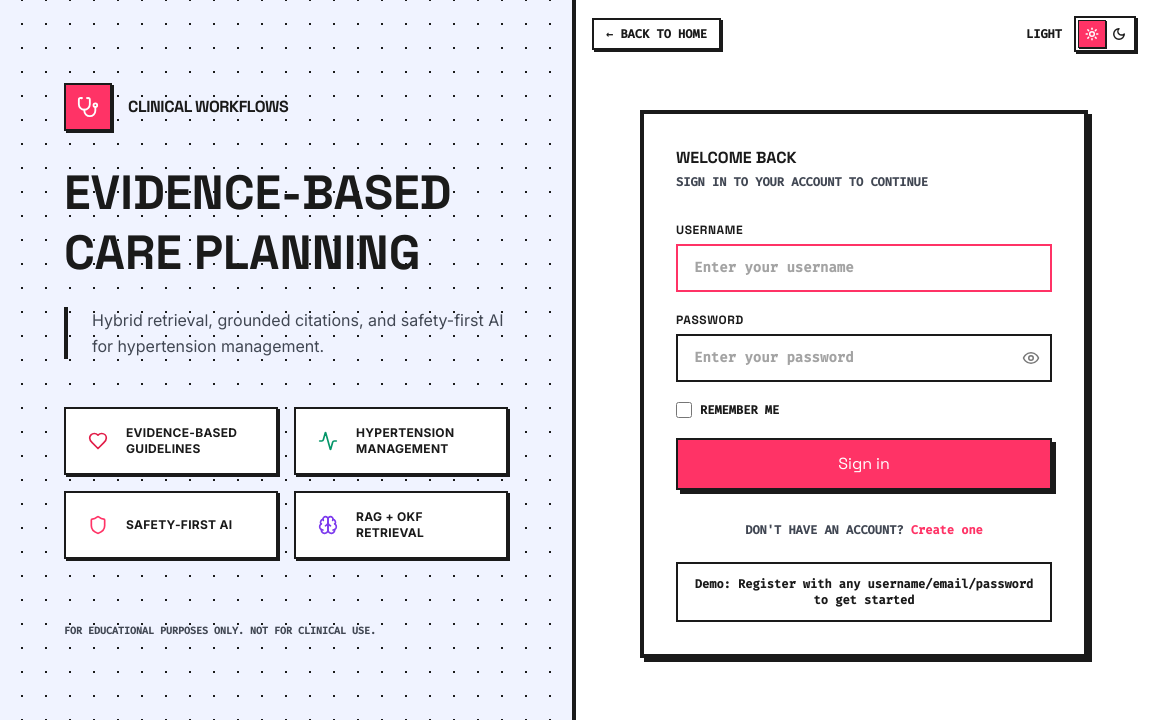
it: LoginPage — fake-token regression › does not synthesize a fake JWT when /api/auth/token returns 500
// Fill in clearly-fictional fixture values and submit.
Type "test_user_fixture" into the field labelled "Username" at (864, 268), box [676,244,1052,292]
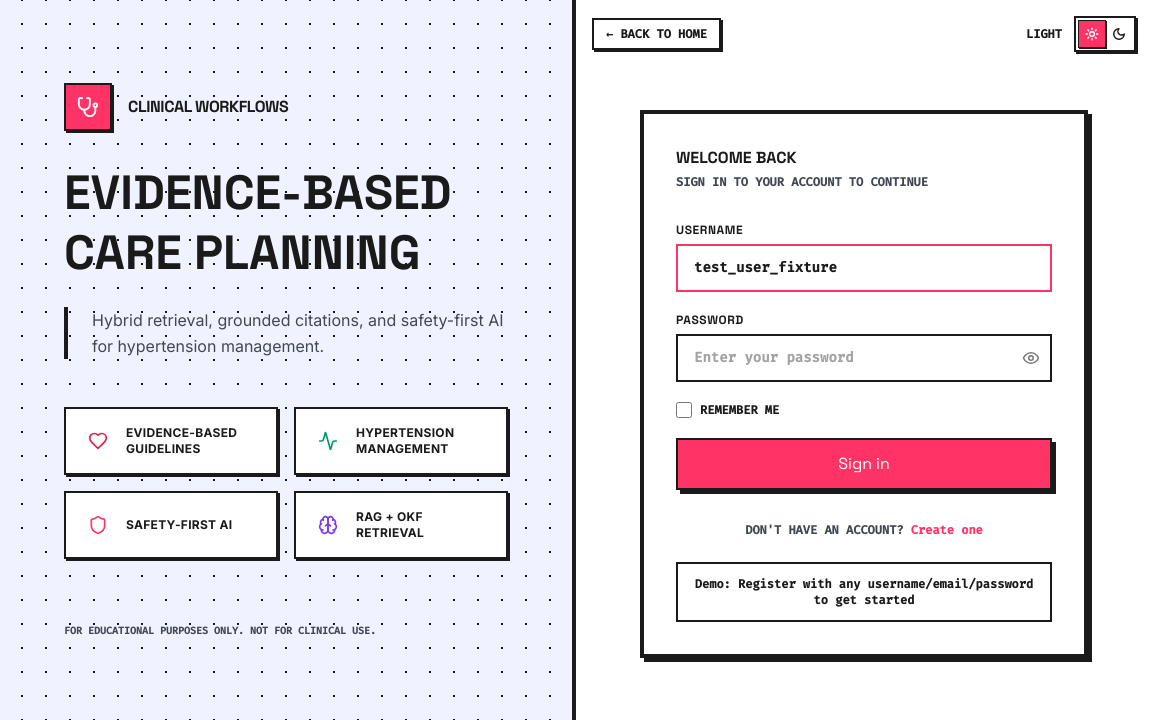
Type "not-a-real-password" into the password field labelled "Password" at (864, 358), box [676,334,1052,382]
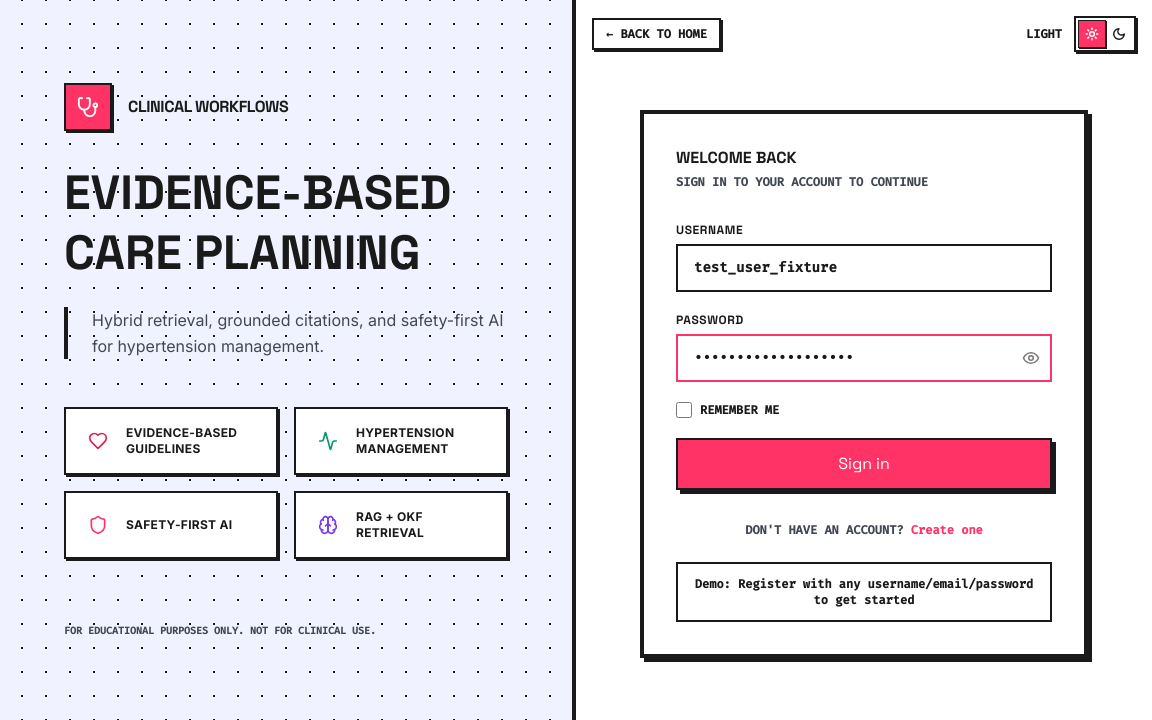
Click the button "Sign in" at (864, 464), box [676,438,1052,490]
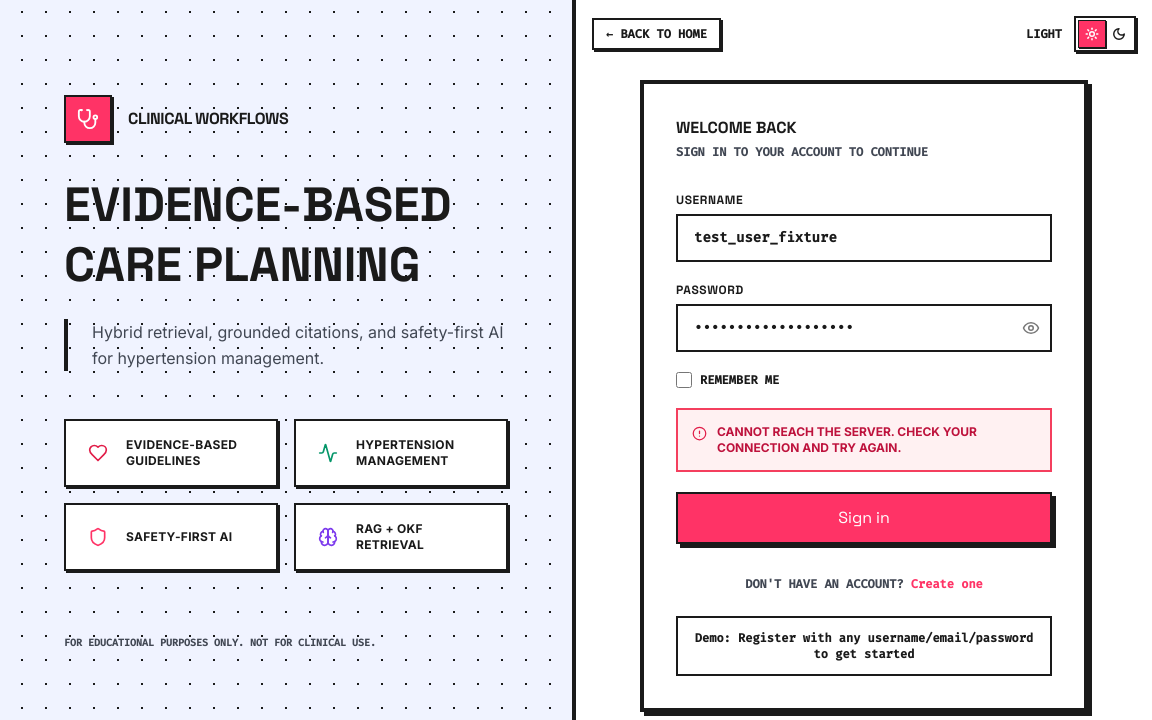
expect the button "Sign in" is enabled: met, box [676,492,1052,544]
expect the text "Cannot reach the server" is shown: met, box [717,424,977,455]
